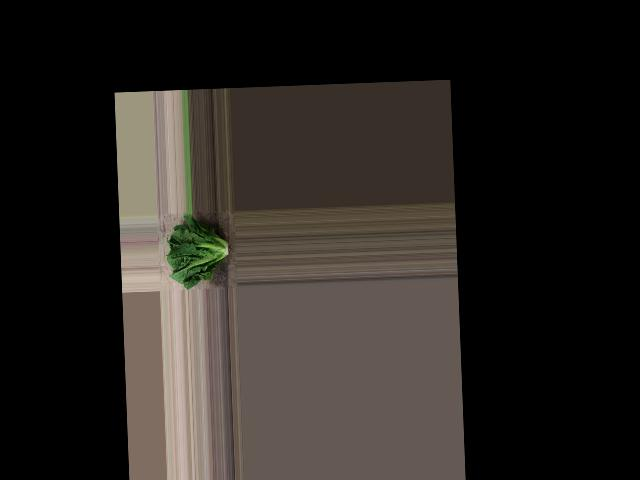lettuce: (163, 213, 235, 287)
